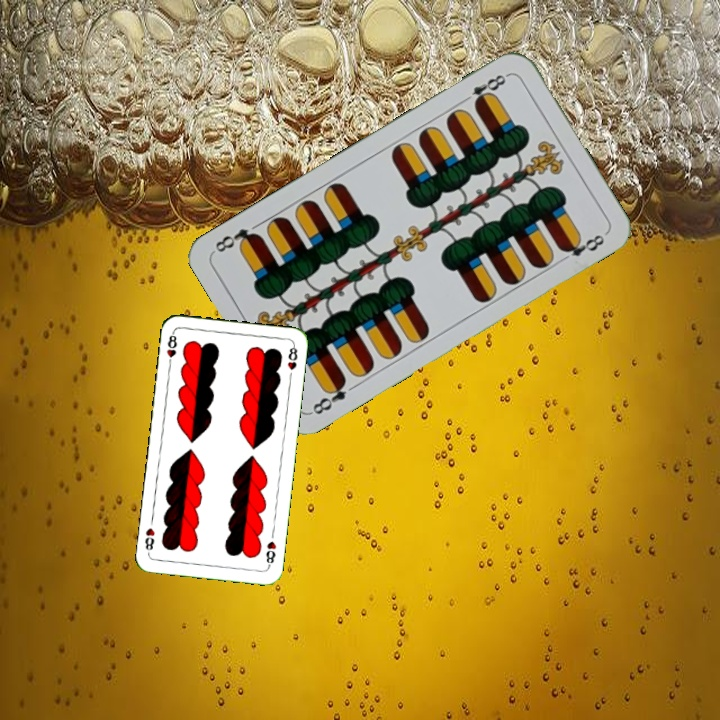E8: (458, 69, 512, 109), (307, 374, 350, 417)
H8: (163, 328, 179, 369), (262, 537, 279, 570)
